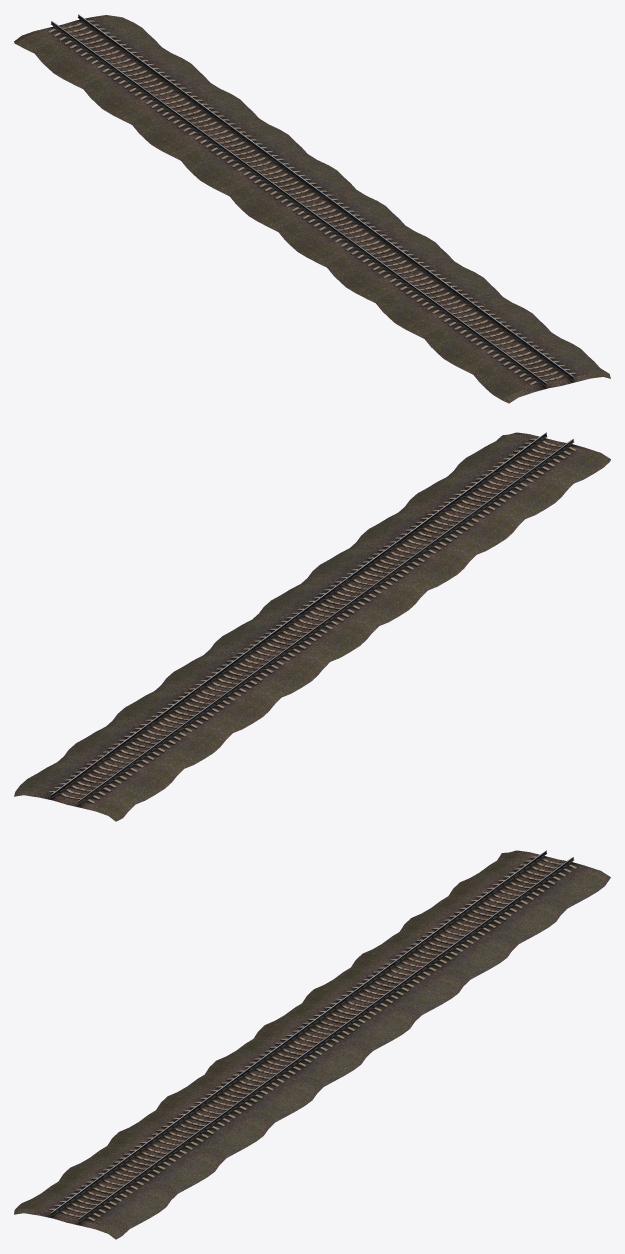
The model's file is 1track_50_TSM.gltf.
3 views of the same model, one above another, from view 1: azimuth 30°, elevation 25°; view 2: azimuth 150°, elevation 25°; view 3: azimuth 330°, elevation 25° (orthographic).
Size of the model in its own units: 6.7 by 0.6438 by 50.8.
1 material, 1 textured.
